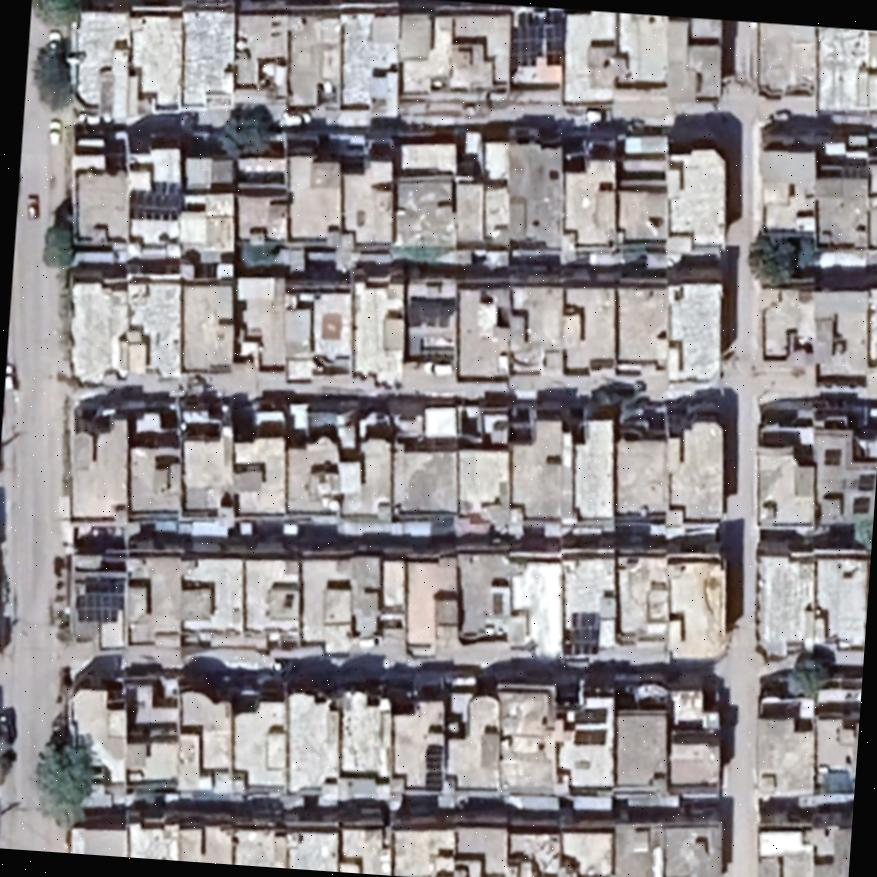Solarpanel: (506, 9, 566, 67), (75, 575, 128, 628), (122, 185, 190, 223), (557, 611, 600, 655), (571, 705, 609, 723), (573, 727, 607, 747), (820, 445, 845, 467)
